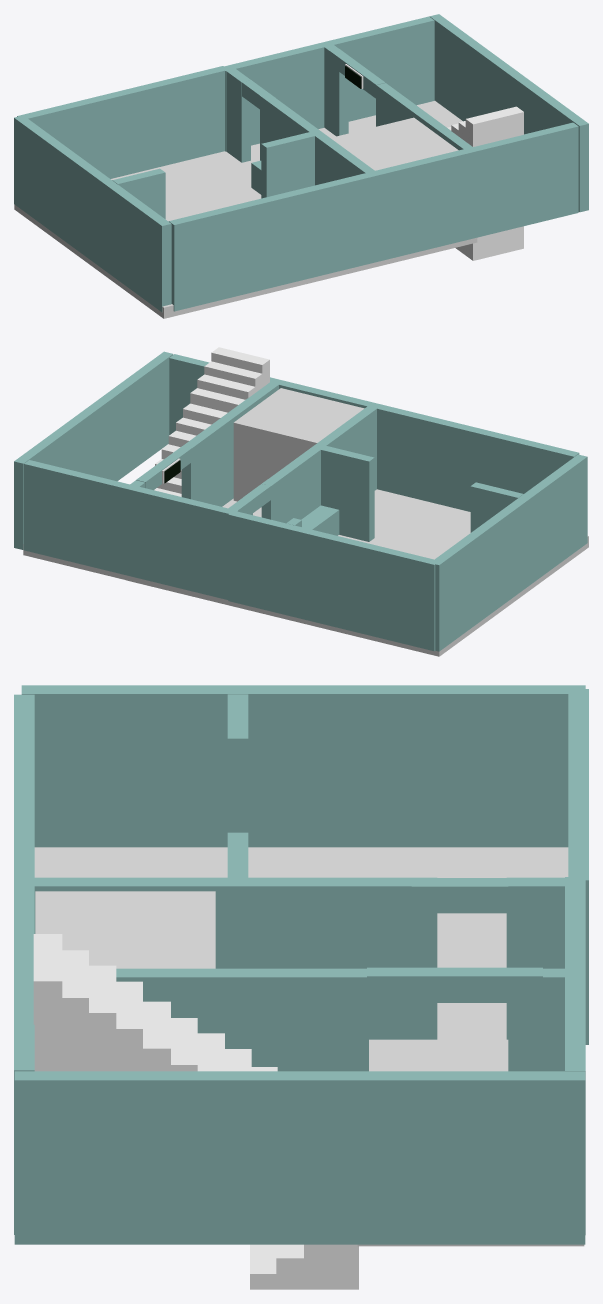
Rendered from homeSmall.FBX.
3 views of the same model, one above another, from view 1: azimuth 30°, elevation 25°; view 2: azimuth 150°, elevation 25°; view 3: azimuth 270°, elevation 25° (orthographic). The views are drawn at different scales.
Parts seen in each view (by area): view 1: Line055, Line053, Line052, Line058, Line057, Box002, Line050, Line054, Box003, Line063, Line056, Line065 (+3 smaller); view 2: Line052, Line058, Line055, Line053, Line057, Box002, Box003, Line054, Line063, Line050, Line056, Line071 (+3 smaller); view 3: Line057, Line053, Line050, Box002, Line056, Line063, Box003, Line055, Line065, Line064, Line060, Line052 (+3 smaller).
Boxes of the visible parts, x1,y1,x2,y2 form: Line055: (168,122,578,311); Line053: (14,115,171,312); Line052: (17,66,224,178); Line058: (220,16,434,151); Line057: (429,14,588,212); Box002: (14,127,477,318); Line050: (224,67,374,185); Line054: (112,131,316,218); Box003: (331,117,458,170); Line063: (447,106,523,260); Line056: (376,83,473,150); Line065: (324,45,348,136); Line052: (228,511,435,651); Line058: (24,460,238,599); Line055: (169,354,579,511); Line053: (430,454,587,651); Line057: (14,351,173,549); Box002: (125,489,588,656); Box003: (233,388,364,501); Line054: (319,445,523,541); Line063: (154,347,269,496); Line050: (225,406,376,523); Line056: (181,381,279,506); Line071: (301,505,339,535); Line057: (14,1071,585,1244); Line053: (21,685,585,847); Line050: (34,877,575,1039); Box002: (34,847,568,1071); Line056: (29,968,368,1071); Line063: (33,934,277,1071); Box003: (35,891,215,968); Line055: (14,694,34,1234); Line065: (508,968,564,1071); Line064: (367,967,542,1002); Line060: (250,1244,358,1289); Line052: (568,689,588,1044).
Size of the model in its own units: 483 by 149 by 297.
